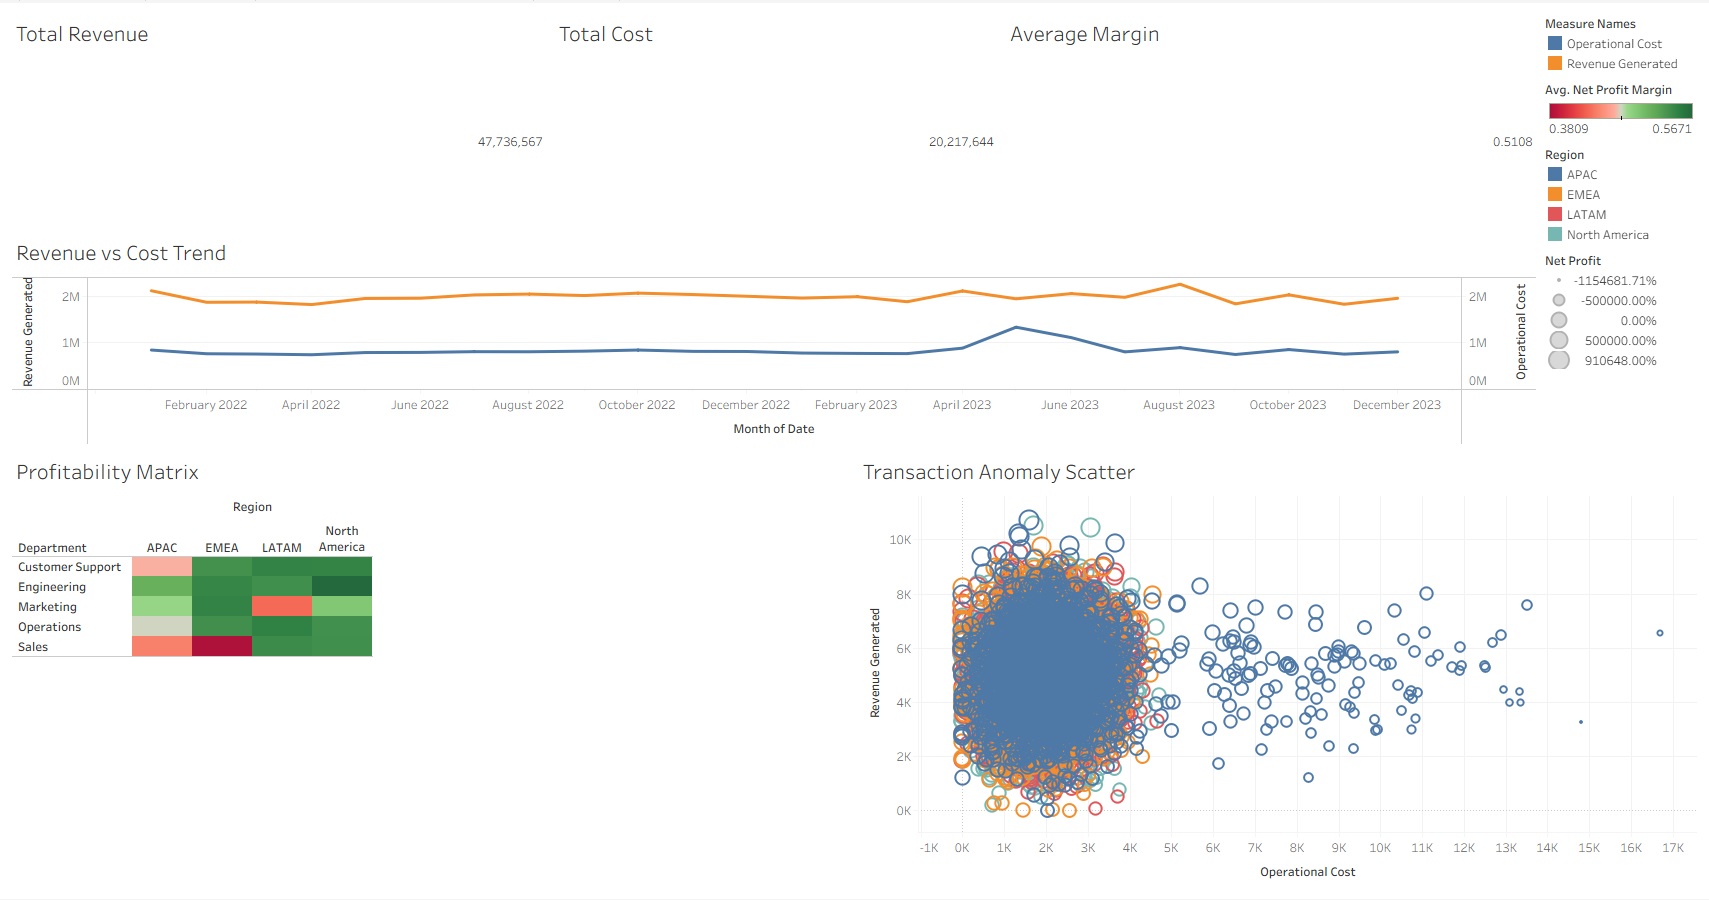

Layout of this report page (visuals, bound fields, positions):
{"tool":"tableau","page":{"name":"Dashboard","canvas":[1000,1000],"units":"permille","ordinal":0},"visuals":[{"type":"worksheet","title":"Total Revenue","mark":"Automatic","box":[4.7,8.9,317.9,244.5]},{"type":"worksheet","title":"Total Cost","mark":"Automatic","box":[322.6,8.9,263.7,244.5]},{"type":"worksheet","title":"Average Margin","mark":"Automatic","box":[586.3,8.9,315.4,244.5]},{"type":"legend","title":"Revenue vs Cost Trend","param":"[federated.0sjenq40w1zda91acg7x81uztqbx].[:Measure Names]","box":[901.7,8.9,93.6,73.7]},{"type":"legend","title":"Profitability Matrix","param":"[federated.0sjenq40w1zda91acg7x81uztqbx].[avg:Net_Profit_Margin:qk]","box":[901.7,82.6,93.6,72.5]},{"type":"legend","title":"Transaction Anomaly Scatter","param":"[federated.0sjenq40w1zda91acg7x81uztqbx].[none:Region:nk]","box":[901.7,155.1,93.6,118.3]},{"type":"worksheet","title":"Revenue vs Cost Trend","mark":"Automatic","rows":["Revenue_Generated","Operational_Cost"],"cols":["Date"],"box":[4.7,253.4,897,244.5]},{"type":"legend","title":"Transaction Anomaly Scatter","param":"[federated.0sjenq40w1zda91acg7x81uztqbx].[sum:Net_Profit:qk]","box":[901.7,273.4,93.6,140.6]},{"type":"worksheet","title":"Profitability Matrix","mark":"Automatic","rows":["Department"],"cols":["Region"],"box":[4.7,497.9,495.3,493.2]},{"type":"worksheet","title":"Transaction Anomaly Scatter","mark":"Automatic","rows":["Revenue_Generated"],"cols":["Operational_Cost"],"box":[500,497.9,495.3,493.2]}]}

Visuals, with their boxes on the dashboard's canvas, which has no fixed pixel size, in thousandths of its width and height (x1, y1, x2, y2). These are canvas units, not pixel positions in the 1709x900 screenshot, which may show the page scaled, cropped or inside an application window:
"Total Revenue" worksheet: detection(5, 9, 323, 253)
"Total Cost" worksheet: detection(323, 9, 586, 253)
"Average Margin" worksheet: detection(586, 9, 902, 253)
"Revenue vs Cost Trend" legend: detection(902, 9, 995, 83)
"Profitability Matrix" legend: detection(902, 83, 995, 155)
"Transaction Anomaly Scatter" legend: detection(902, 155, 995, 273)
"Revenue vs Cost Trend" worksheet: detection(5, 253, 902, 498)
"Transaction Anomaly Scatter" legend: detection(902, 273, 995, 414)
"Profitability Matrix" worksheet: detection(5, 498, 500, 991)
"Transaction Anomaly Scatter" worksheet: detection(500, 498, 995, 991)
